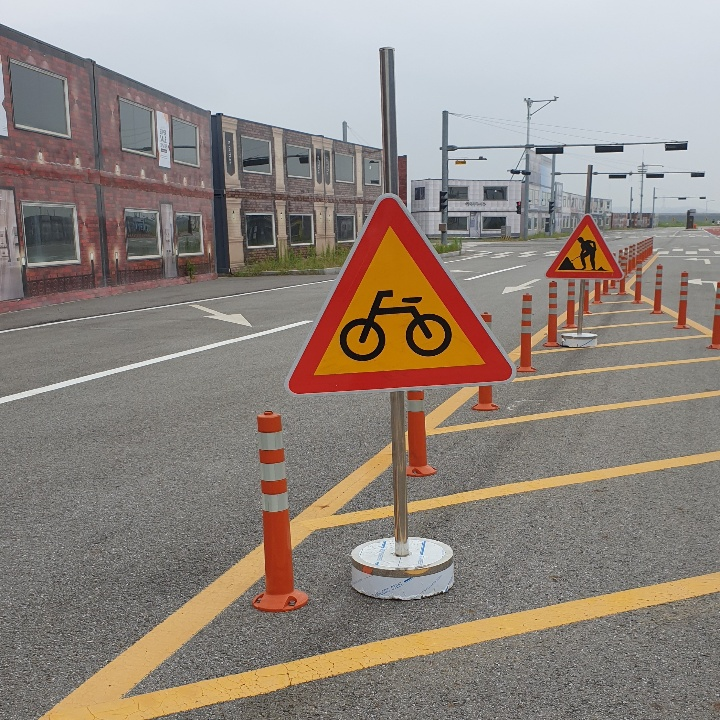bicycle: (280, 190, 512, 391)
const: (556, 230, 612, 278)
